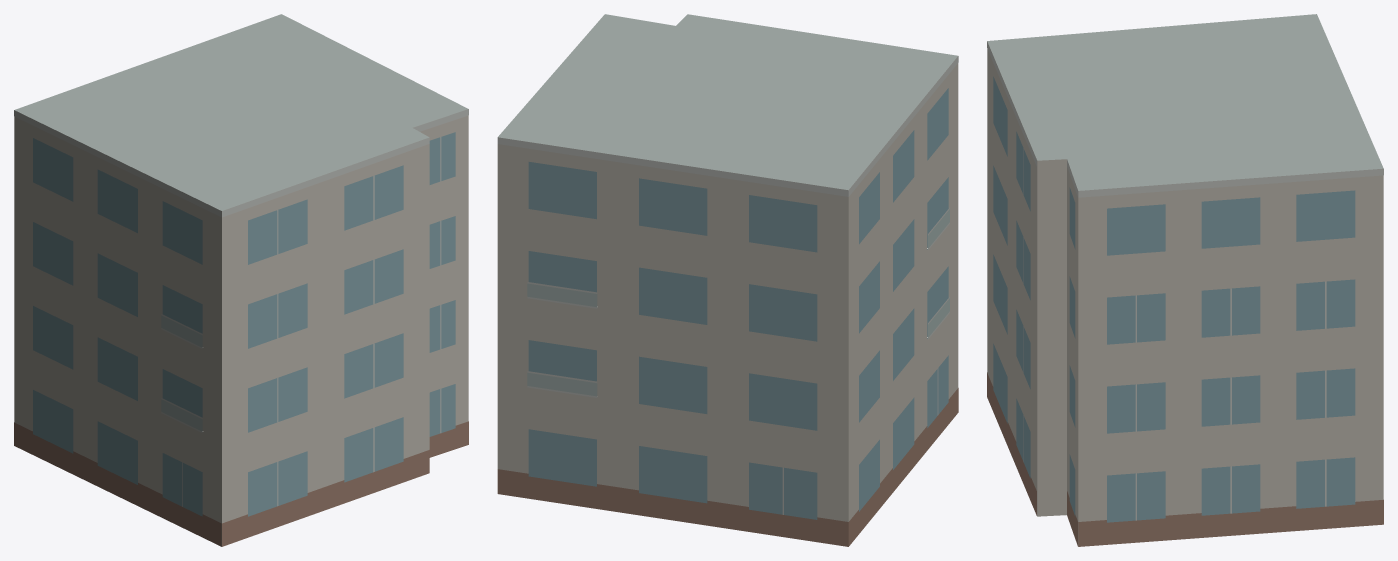
The model's file is survey-upis-32549619.glb.
3 views of the same model, side by side, from view 1: azimuth 30°, elevation 25°; view 2: azimuth 150°, elevation 25°; view 3: azimuth 270°, elevation 25° (orthographic). The views are drawn at different scales.
Visible parts, largest first — view 1: survey-upis-32549619.tmp; view 2: survey-upis-32549619.tmp; view 3: survey-upis-32549619.tmp.
Part boxes in pixels (bbox=[...]): survey-upis-32549619.tmp: bbox=[14, 14, 468, 546]; survey-upis-32549619.tmp: bbox=[497, 14, 958, 546]; survey-upis-32549619.tmp: bbox=[987, 14, 1383, 546].
Size of the model in its own units: 13.66 by 12.8 by 12.94.
